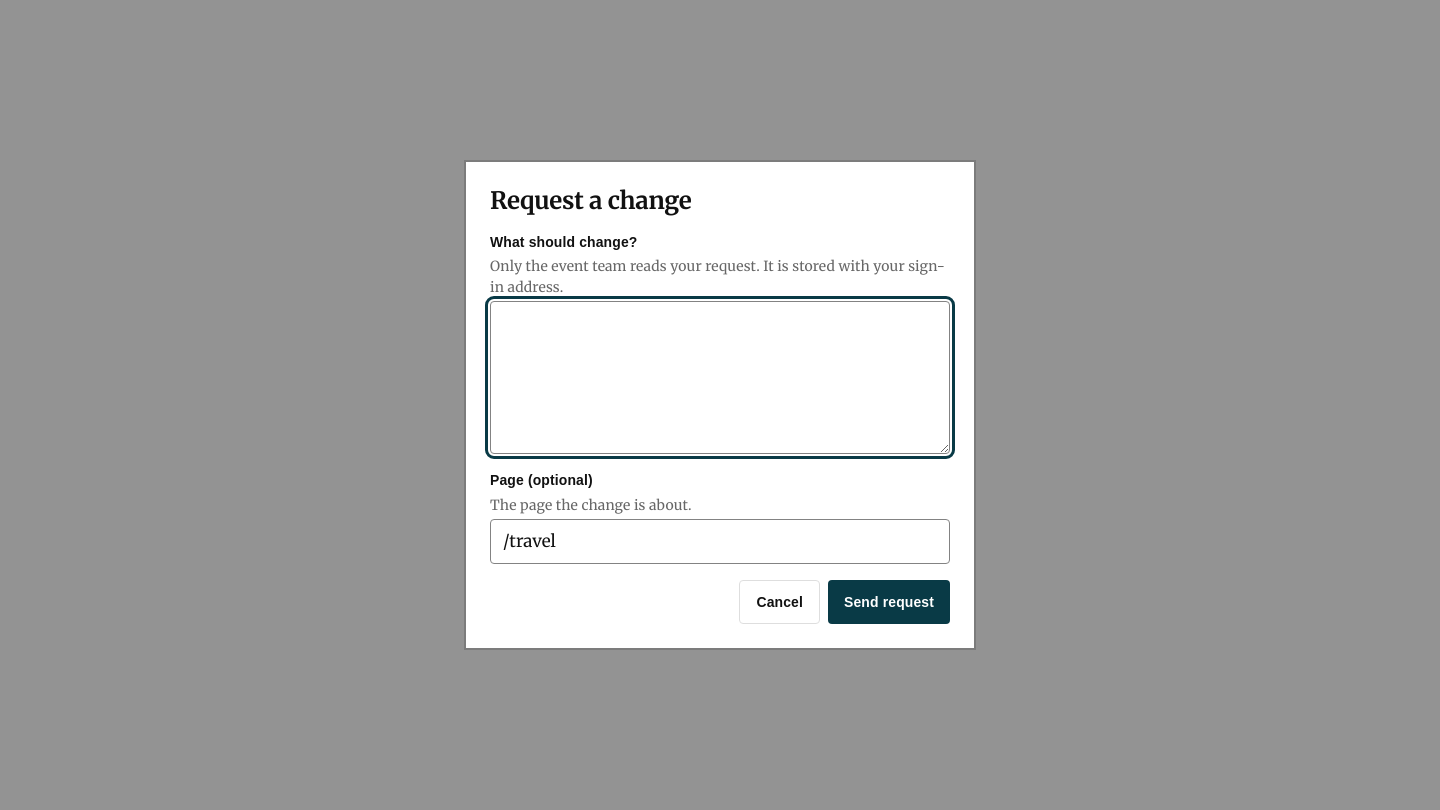
ChangeRequestModal › states a refusal from the server as one alert at the head of the form
The image size is (1440, 810).
In the text box labelled "What should change?": point(720, 378) x1=490 y1=301 x2=950 y2=454, type "Hello"
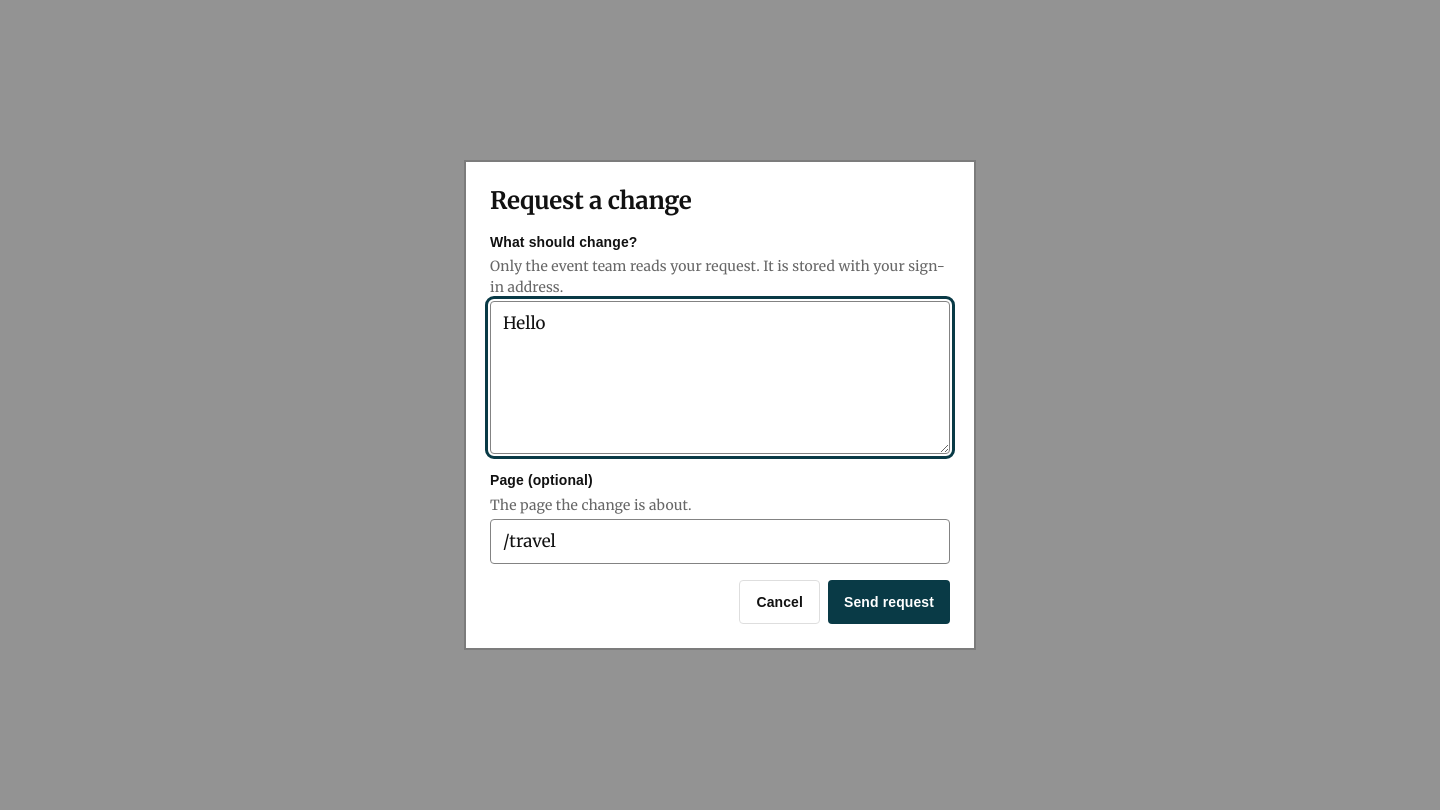
Click the button "Send request": point(889, 602) x1=828 y1=580 x2=950 y2=624
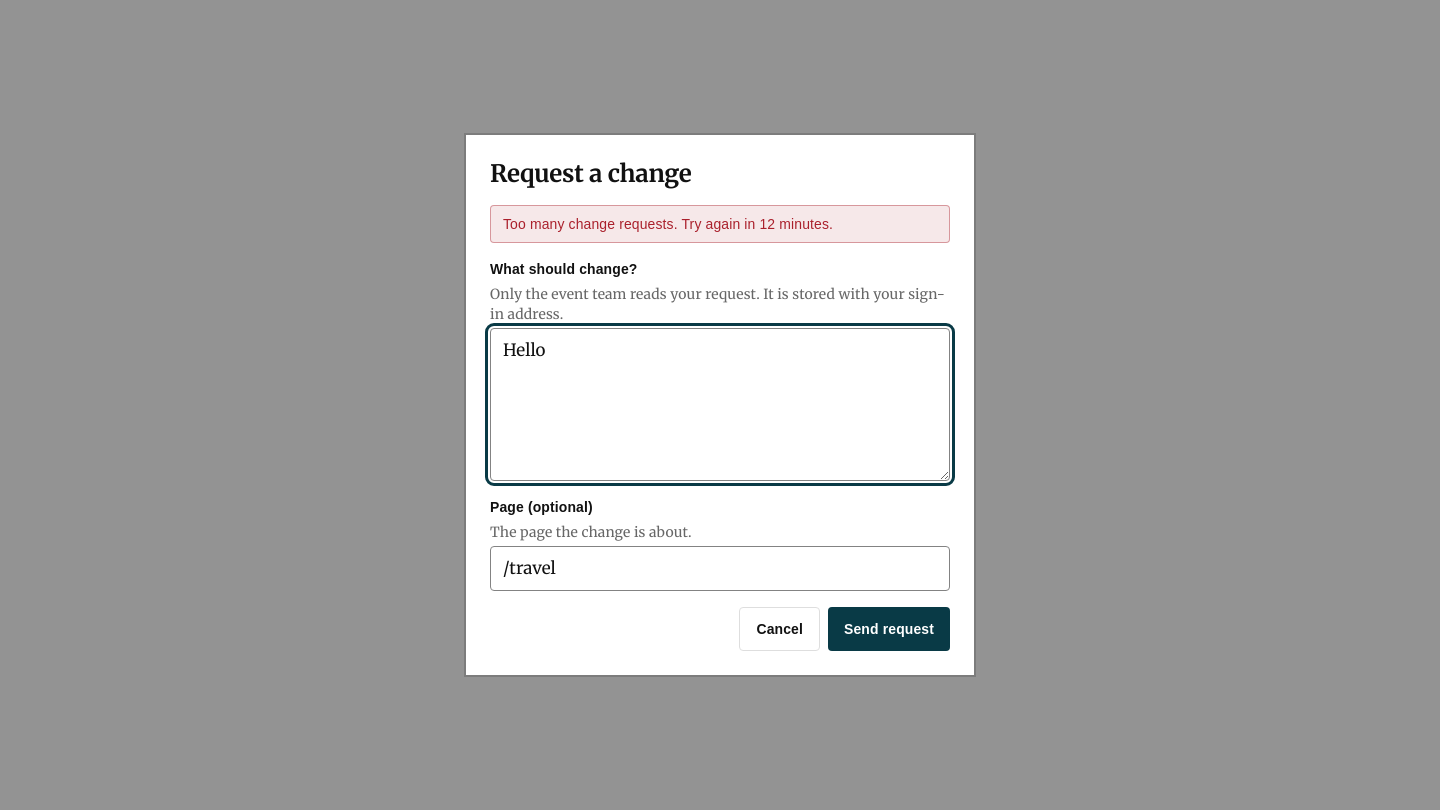
Expected: the message reads "Too many change requests. Try again in 12 minutes.", x1=503 y1=216 x2=833 y2=232
